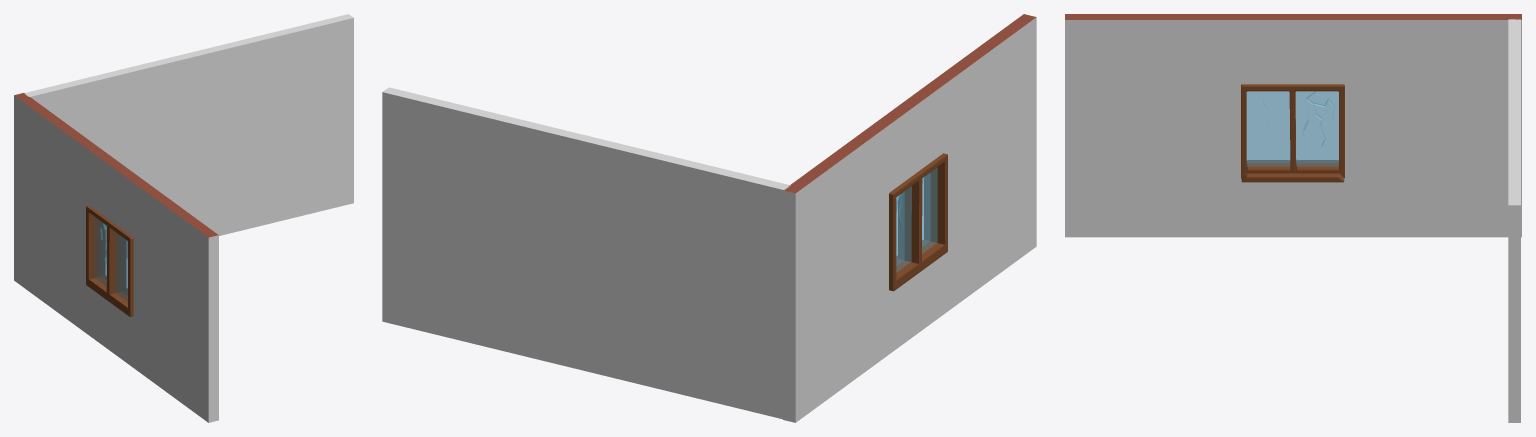
File: walls_tier3.fbx
The picture shows the model from 3 angles, left to right: view 1: azimuth 30°, elevation 25°; view 2: azimuth 150°, elevation 25°; view 3: azimuth 270°, elevation 25°; orthographic projection. The views are drawn at different scales.
Parts seen in each view (by area): view 1: Cube.007, Cube, Cube.002, Cube.003; view 2: Cube.007, Cube, Cube.002, Cube.003; view 3: Cube, Cube.003, Cube.007, Cube.002.
Boxes of the visible parts, x1,y1,x2,y2 form: Cube.007: [24, 14, 353, 261]; Cube: [14, 93, 218, 422]; Cube.002: [86, 205, 133, 316]; Cube.003: [94, 217, 127, 301]; Cube.007: [382, 87, 790, 419]; Cube: [783, 14, 1036, 422]; Cube.002: [889, 153, 947, 291]; Cube.003: [896, 167, 937, 272]; Cube: [1065, 14, 1521, 237]; Cube.003: [1246, 91, 1338, 166]; Cube.007: [1508, 19, 1520, 422]; Cube.002: [1241, 84, 1344, 182].
Bounding box in the file's own units: 659 × 346 × 658.
